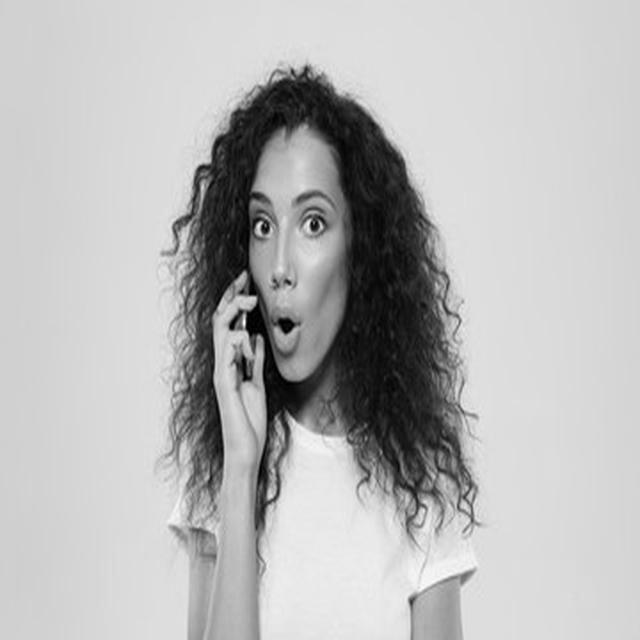Surprised: (248, 131, 348, 382)
